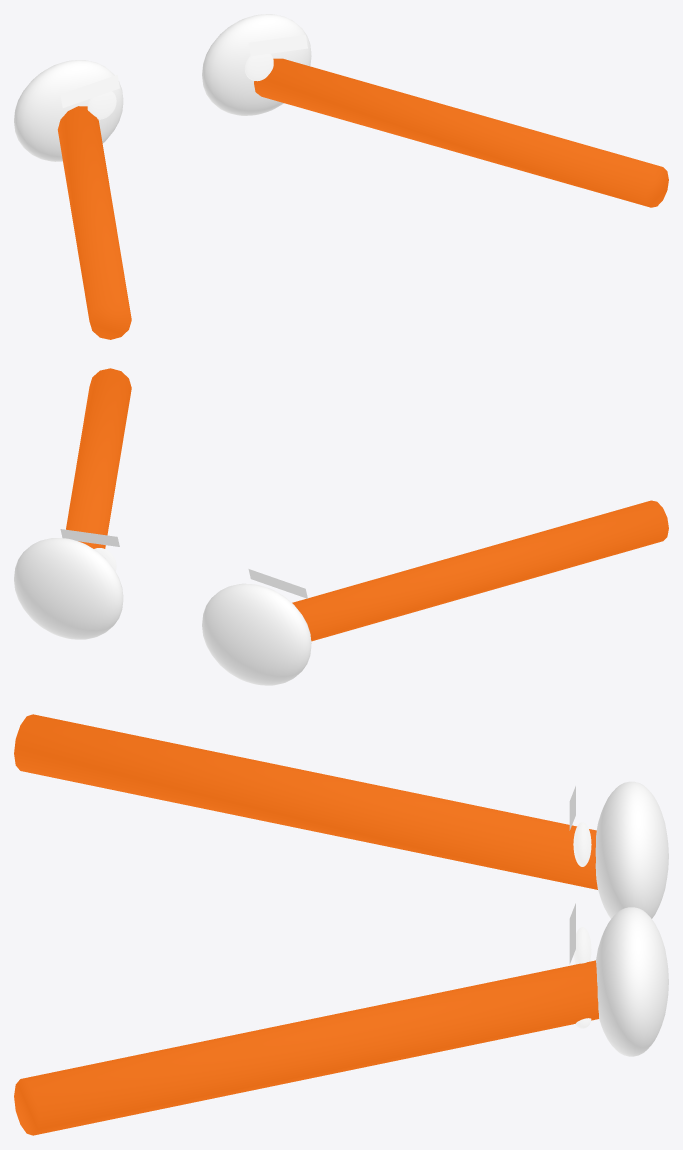
The model's file is trait-eyes-fire-laser.glb.
3 renders of one model, top to bottom at view 1: azimuth 30°, elevation 25°; view 2: azimuth 150°, elevation 25°; view 3: azimuth 270°, elevation 25°, orthographic. The views are drawn at different scales.
Visible parts, largest first — view 1: trait_eye_beam_R, trait_eye_beam_L, trait_eye_R, trait_eye_L, trait_eye_lash_L, trait_eye_lash_R, trait_eye_glint_R, trait_eye_glint_L; view 2: trait_eye_beam_L, trait_eye_L, trait_eye_R, trait_eye_beam_R, trait_eye_lash_R, trait_eye_lash_L; view 3: trait_eye_beam_R, trait_eye_beam_L, trait_eye_R, trait_eye_L, trait_eye_glint_L.
Part boxes in pixels (x1,y1,x2,y2): trait_eye_beam_R: (254,58,668,207); trait_eye_beam_L: (57,106,131,339); trait_eye_R: (202,14,311,115); trait_eye_L: (14,60,123,161); trait_eye_lash_L: (60,75,119,107); trait_eye_lash_R: (248,35,307,56); trait_eye_glint_R: (244,54,273,81); trait_eye_glint_L: (87,91,116,119); trait_eye_beam_L: (292,500,668,641); trait_eye_L: (202,583,311,685); trait_eye_R: (14,538,123,639); trait_eye_beam_R: (66,368,131,548); trait_eye_lash_R: (60,529,119,546); trait_eye_lash_L: (248,569,307,598); trait_eye_beam_R: (14,960,598,1135); trait_eye_beam_L: (14,714,597,889); trait_eye_R: (596,907,668,1056); trait_eye_L: (595,781,668,918); trait_eye_glint_L: (573,822,591,866).
Size of the model in its own units: 1.42 by 0.2262 by 1.01.
